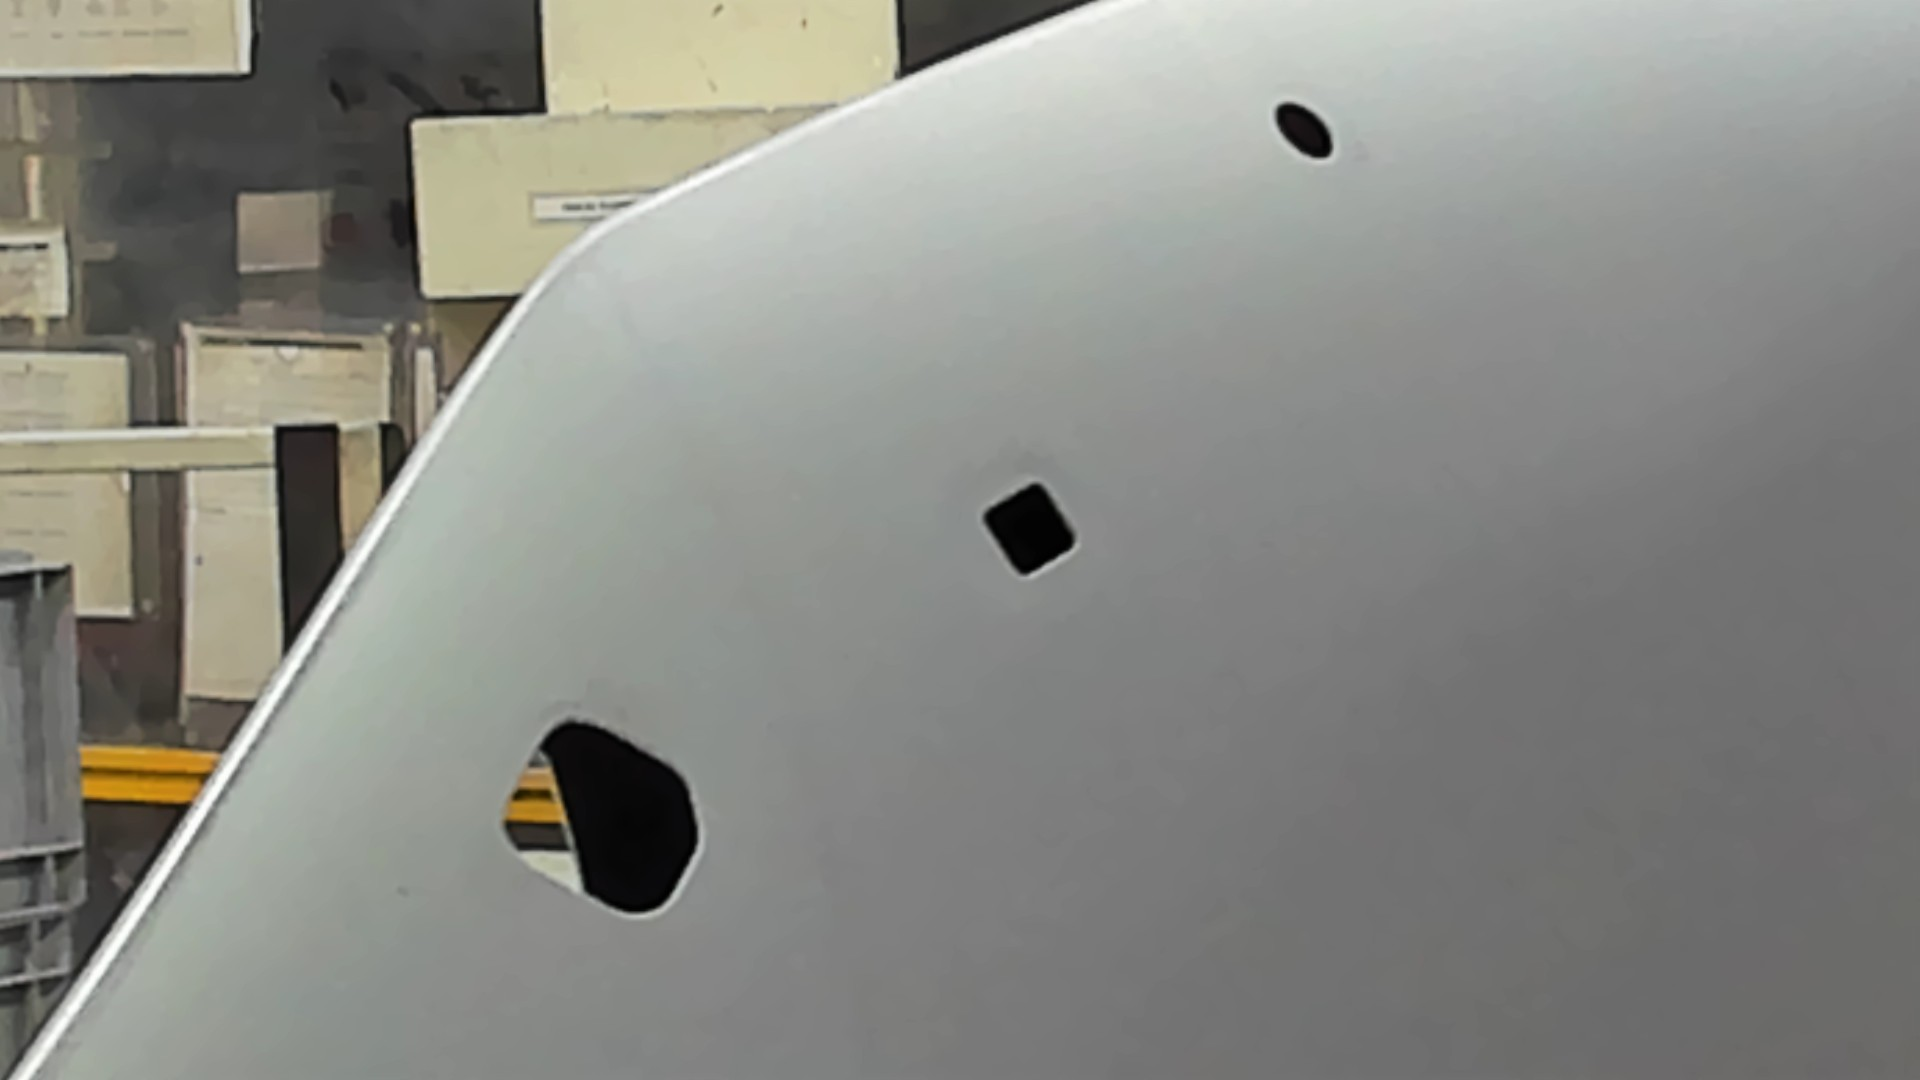chico: (1270, 98, 1338, 165)
grande: (501, 711, 705, 926)
mediano: (973, 472, 1087, 583)
